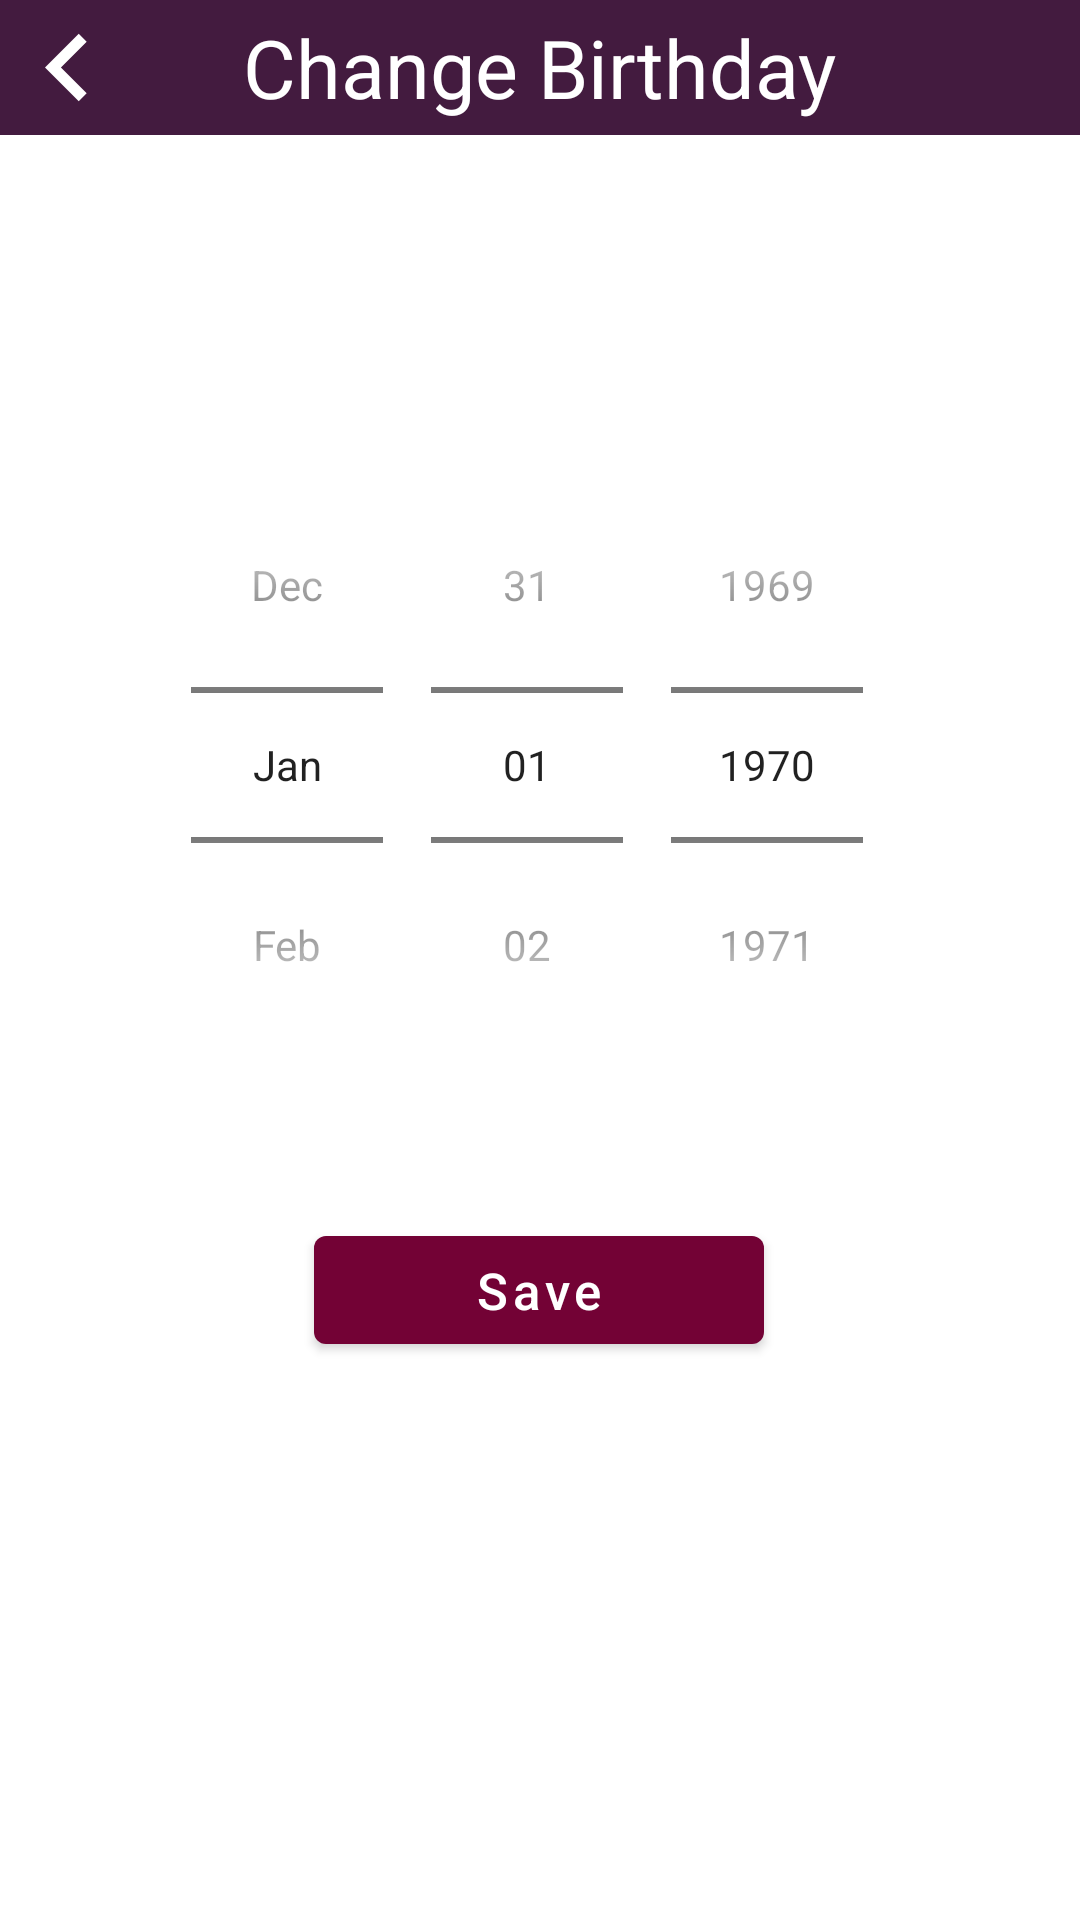

Named icons in this screenshot (1080 × 1920) and their bounding boxes, Rect(x1, y1, x2, y2):
chevron left: Rect(45, 34, 87, 101)
